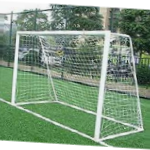goals: (11, 28, 145, 141)
